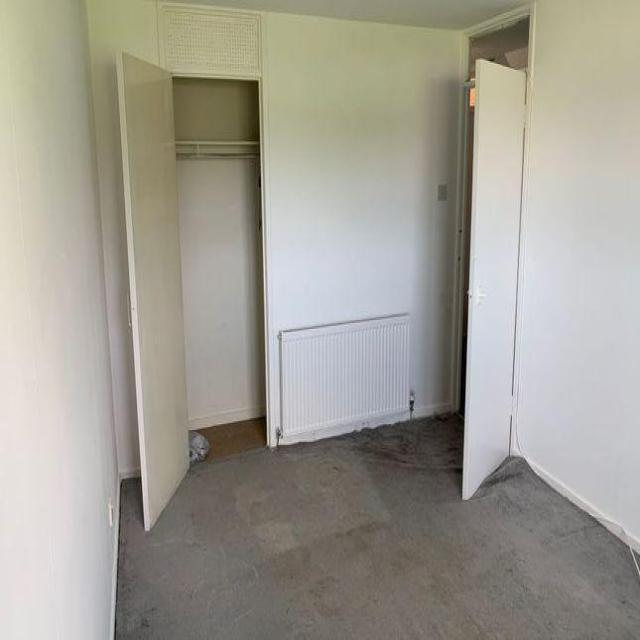Wall: (116, 416, 640, 639), (0, 0, 157, 637), (261, 13, 461, 436), (515, 0, 640, 549), (178, 157, 265, 429), (179, 1, 530, 29), (173, 77, 259, 141), (199, 419, 266, 462)
